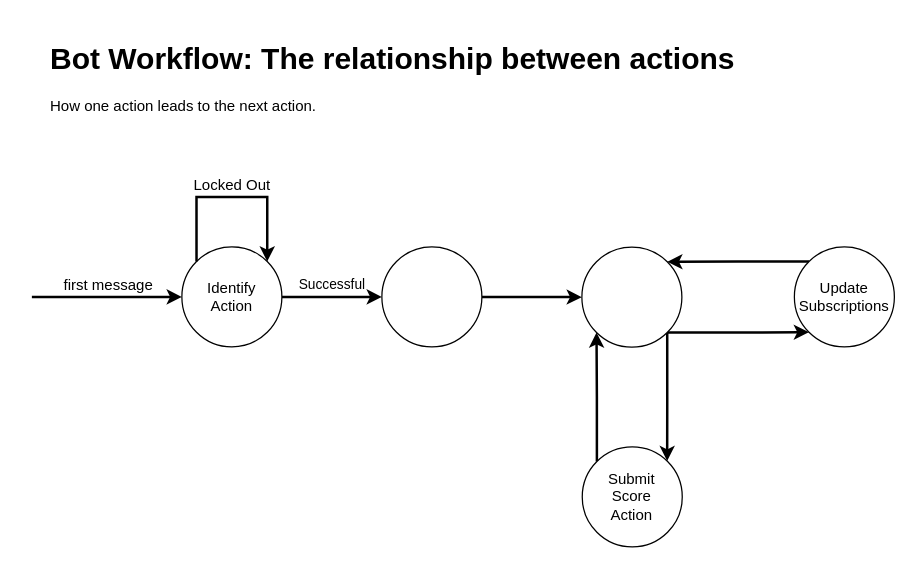
Image size: 916x569. Some labels were removed from this diagram. The centre of each missing label's shape, as x and y in pixels:
Homescreen Action: (x=631, y=296)
Welcome Action: (x=431, y=296)
